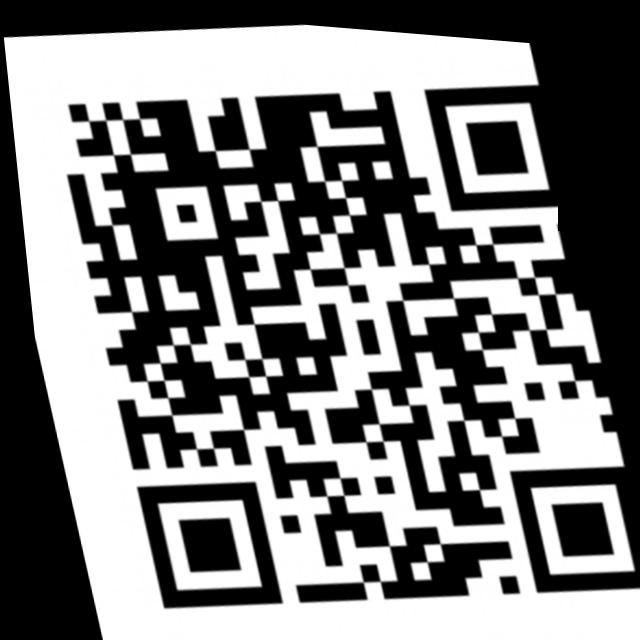QR_CODE: (12, 16, 640, 640)
